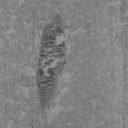oxide scale of plate system: (30, 12, 70, 126)
